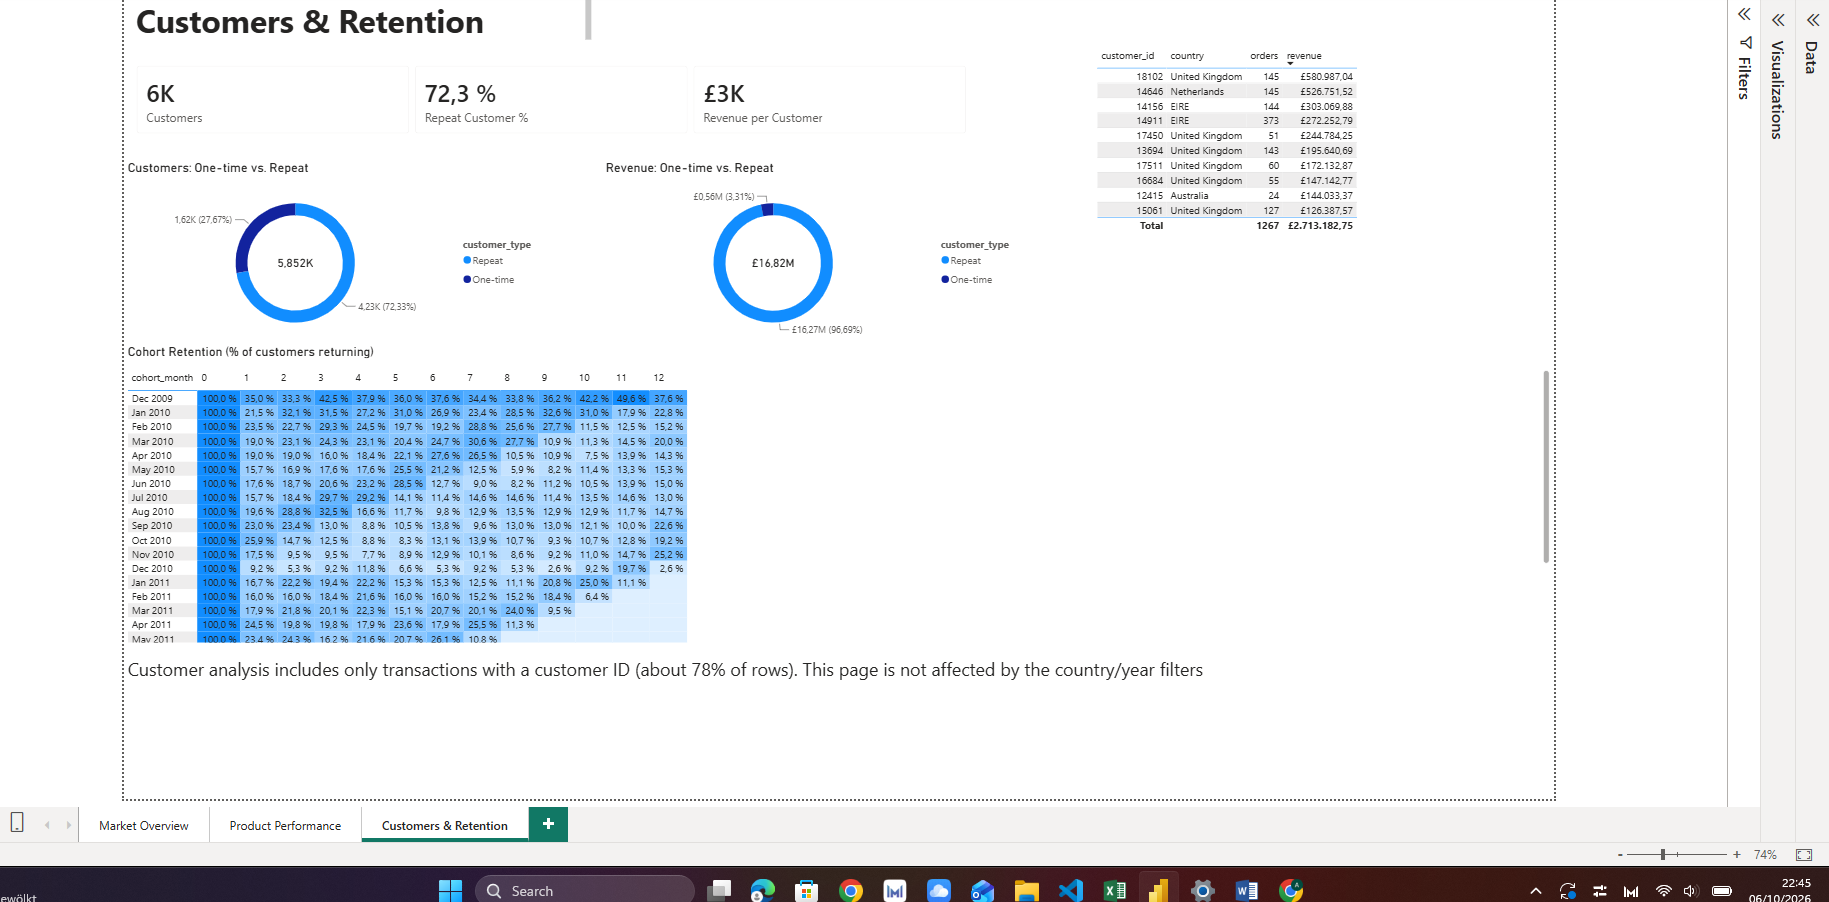

What the dashboard file says about the page in this screenshot:
{"tool":"powerbi","page":{"name":"Customers & Retention","canvas":[1920,1080],"ordinal":2},"visuals":[{"type":"textbox","box":[10.2,0,621.5,65.7],"z":0},{"type":"cardVisual","fields":{"Data":["transactions.Customers","v_customer_summary.Repeat Customer %","v_customer_summary.Revenue per Customer"]},"box":[0,77.3,1149.7,125.5],"z":1},{"type":"donutChart","title":"Customers: One-time vs. Repeat","fields":{"Category":["v_customer_summary.customer_type"],"Y":["CountNonNull(v_customer_summary.customer_id)"]},"box":[0,221.8,569,246.6],"z":2},{"type":"pivotTable","title":"Cohort Retention (% of customers returning)","fields":{"Columns":["v_cohort_retention.months_since_first"],"Rows":["v_cohort_retention.cohort_month"],"Values":["v_cohort_retention.Retention %"]},"box":[0,468.3,1920,405.6],"z":3},{"type":"tableEx","fields":{"Values":["v_customer_summary.customer_id","v_customer_summary.country","Sum(v_customer_summary.orders)","Sum(v_customer_summary.revenue)"]},"box":[1301.4,65.7,618.6,402.7],"z":4},{"type":"donutChart","title":"Revenue: One-time vs. Repeat","fields":{"Category":["v_customer_summary.customer_type"],"Y":["Sum(v_customer_summary.revenue)"]},"box":[641.9,221.8,569,246.6],"z":5},{"type":"textbox","box":[0,884,1920,196],"z":6}]}

Visuals, with their boxes on the page's 1920x1080 design canvas (x1, y1, x2, y2). These are canvas units, not pixel positions in the 1829x902 screenshot, which may show the page scaled, cropped or inside an application window:
textbox: 10/0/632/66
cardVisual - transactions.Customers x v_customer_summary.Repeat Customer %: 0/77/1150/203
"Customers: One-time vs. Repeat" donutChart: 0/222/569/468
"Cohort Retention (% of customers returning)" pivotTable: 0/468/1920/874
tableEx - v_customer_summary.customer_id x v_customer_summary.country: 1301/66/1920/468
"Revenue: One-time vs. Repeat" donutChart: 642/222/1211/468
textbox: 0/884/1920/1080
